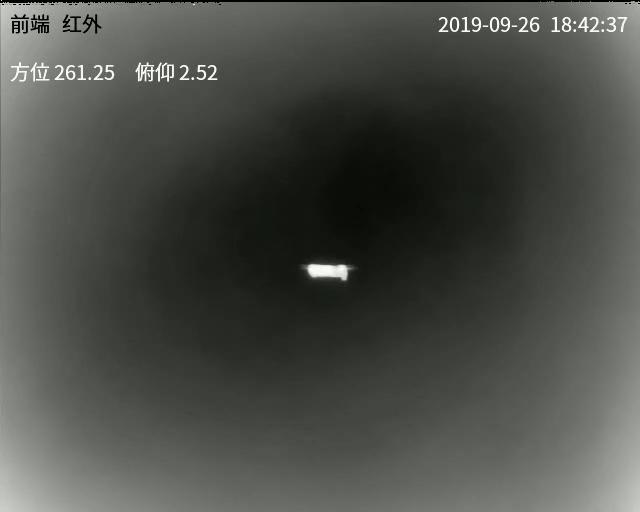uav: (299, 257, 358, 284)
